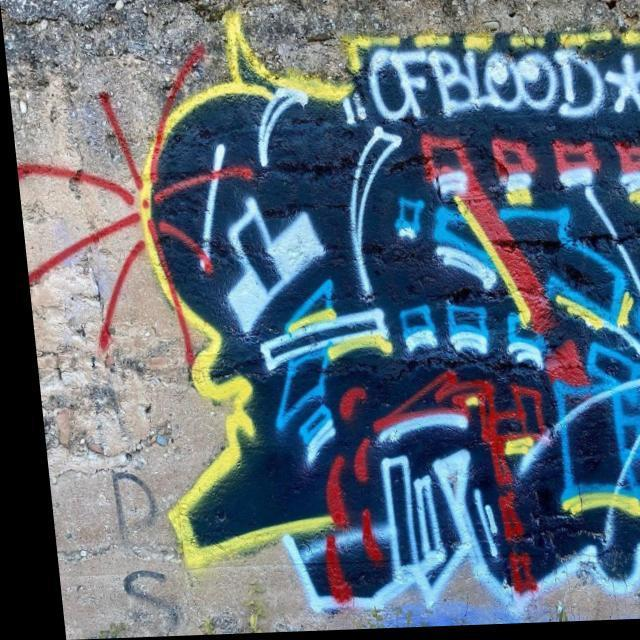-: (102, 0, 640, 632)
